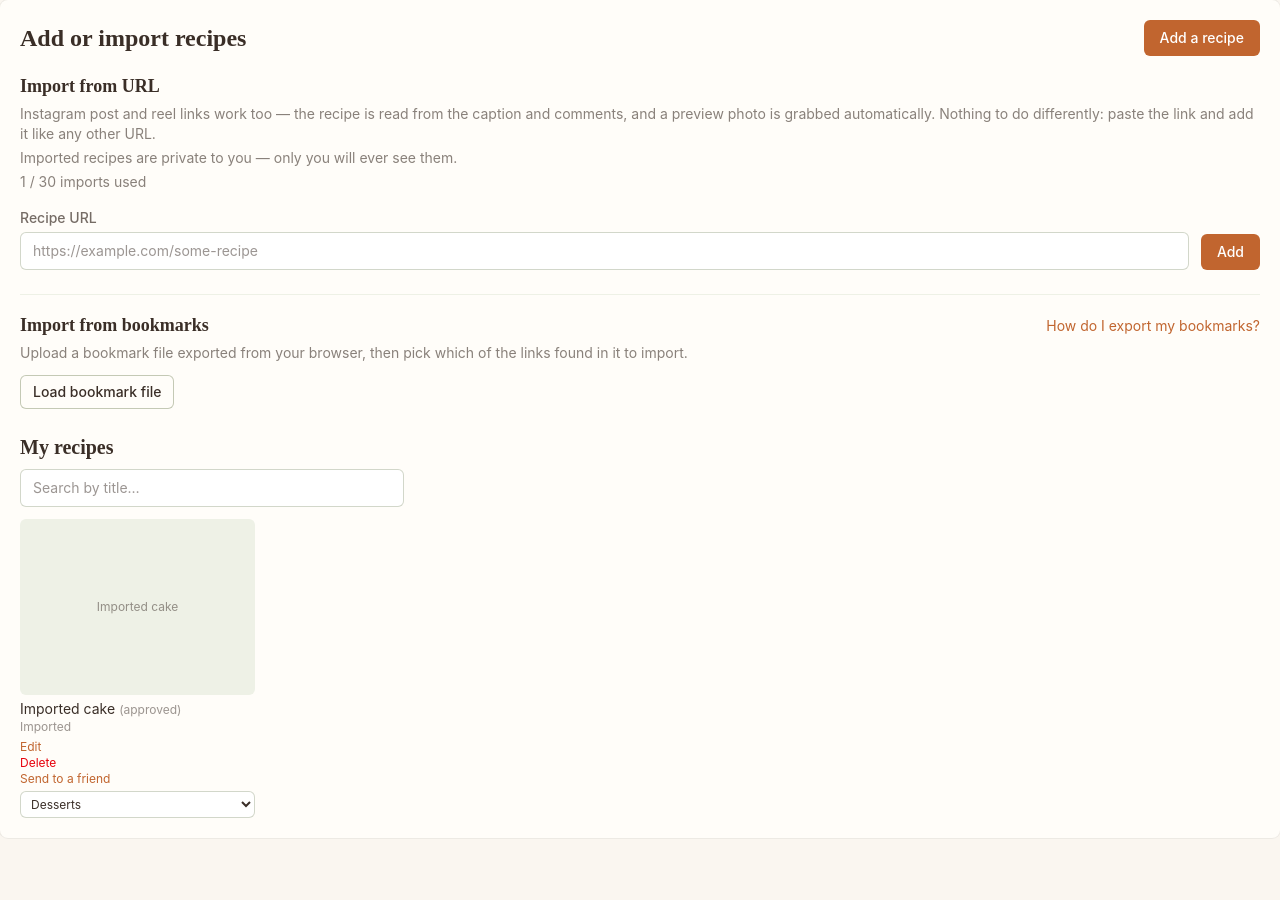
Test: ImportPage › does not delete a recipe when the confirm dialog is dismissed
Click the button "Delete".
click(38, 763)  # box [20,755,56,771]
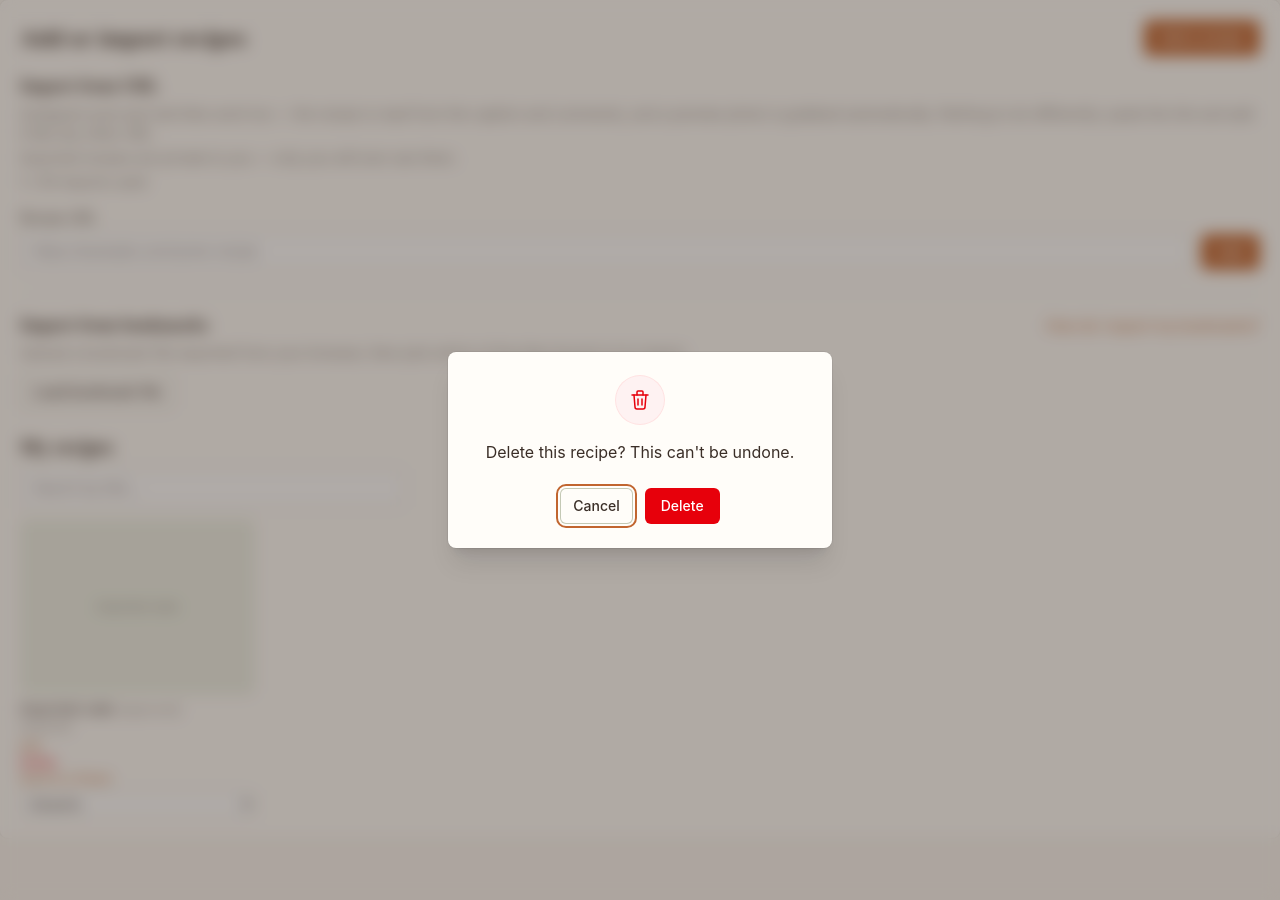
Click the button "Cancel".
click(597, 506)  # box [560,488,633,524]
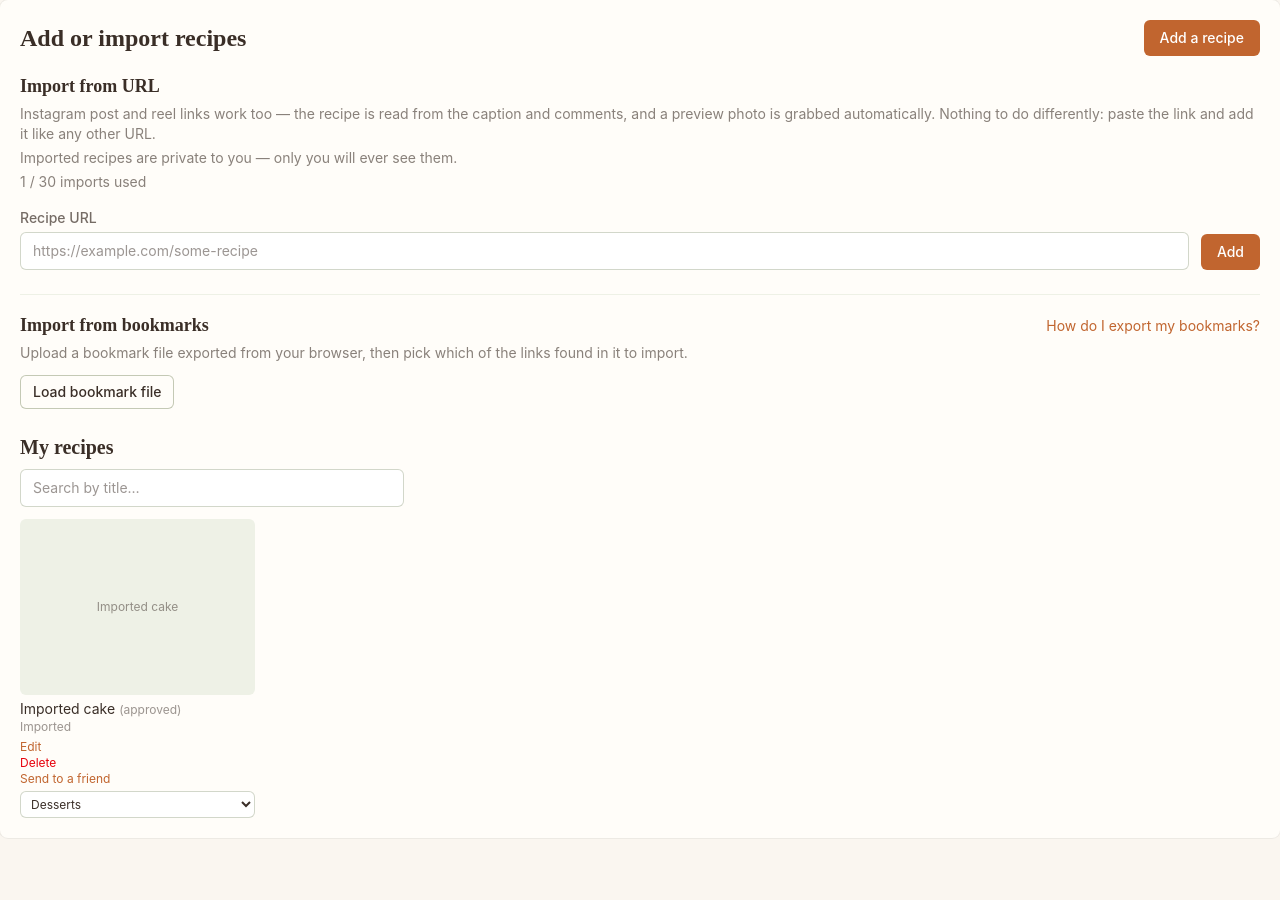
Expected: the text "Imported cake" is shown, [20,519,255,695]
Result: the dialog is gone
